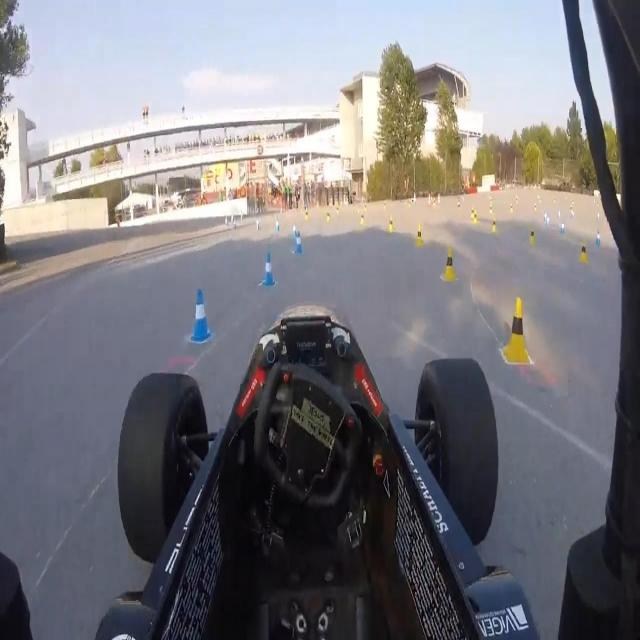blue_cone: (192, 287, 212, 348), (262, 254, 276, 288), (296, 231, 304, 255), (596, 230, 601, 246), (276, 219, 280, 232), (560, 223, 564, 235), (546, 216, 550, 226)
yellow_cone: (503, 295, 531, 366), (443, 247, 457, 284), (578, 242, 588, 264), (416, 225, 425, 248), (388, 216, 394, 234), (491, 218, 497, 234), (359, 213, 365, 227), (530, 230, 535, 246), (474, 212, 478, 223), (305, 210, 309, 221), (327, 212, 331, 222), (471, 207, 474, 219)
